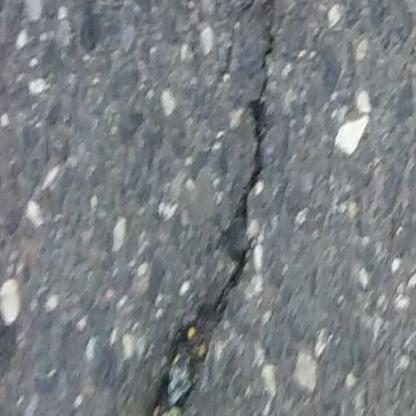Cracks: (139, 0, 280, 416)
